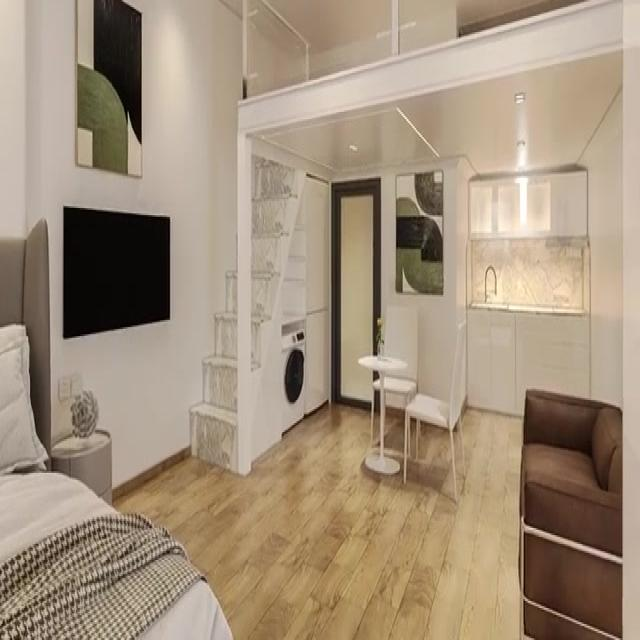door: (331, 176, 380, 407)
obstacle: (517, 386, 622, 638), (406, 325, 466, 499), (357, 354, 407, 474)
